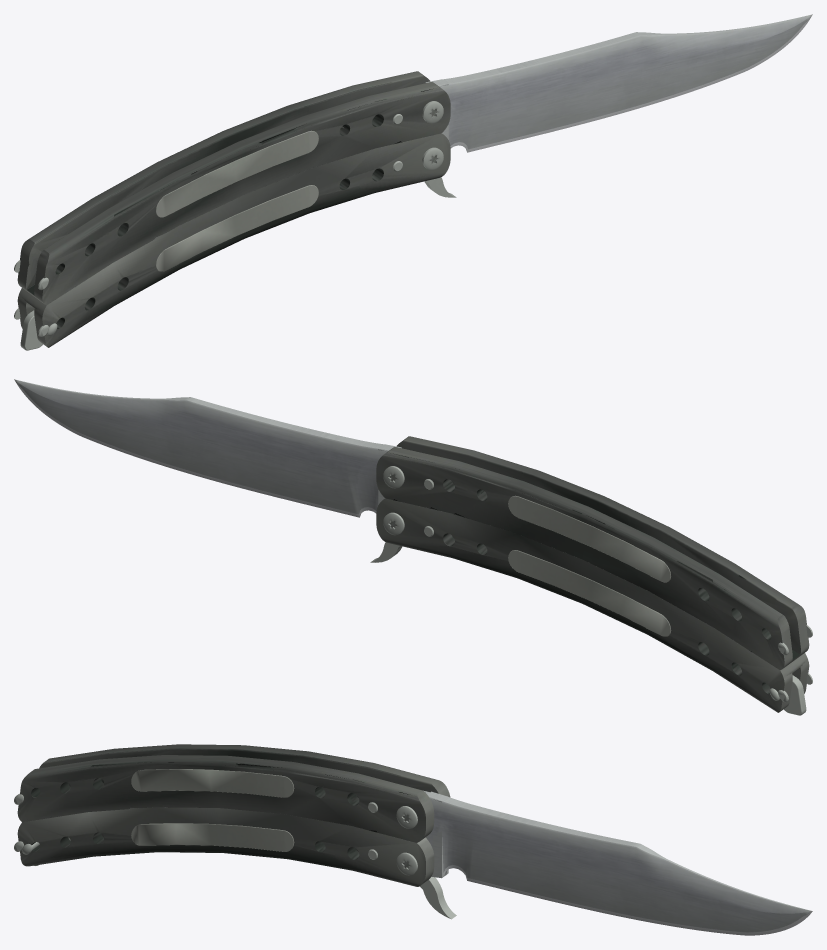
File: butterfly.glb
The picture shows the model from 3 angles, top to bottom: view 1: azimuth 30°, elevation 25°; view 2: azimuth 150°, elevation 25°; view 3: azimuth 330°, elevation 25°; orthographic projection.
Parts seen in each view (by area): view 1: handle_safe_mesh, body, handle_bite_mesh; view 2: handle_safe_mesh, body, handle_bite_mesh; view 3: handle_safe_mesh, body, handle_bite_mesh.
Boxes of the visible parts, bbox=[...] form: handle_safe_mesh: bbox=[14, 71, 450, 305]; body: bbox=[425, 14, 812, 152]; handle_bite_mesh: bbox=[14, 133, 456, 350]; handle_safe_mesh: bbox=[376, 436, 812, 670]; body: bbox=[14, 379, 401, 517]; handle_bite_mesh: bbox=[370, 498, 812, 715]; handle_safe_mesh: bbox=[14, 744, 450, 842]; body: bbox=[423, 790, 812, 935]; handle_bite_mesh: bbox=[14, 807, 456, 919].
Bounding box in the file's own units: 0.2389 × 0.0504 × 0.0147.
Materials: 5 (5 with a texture image).
